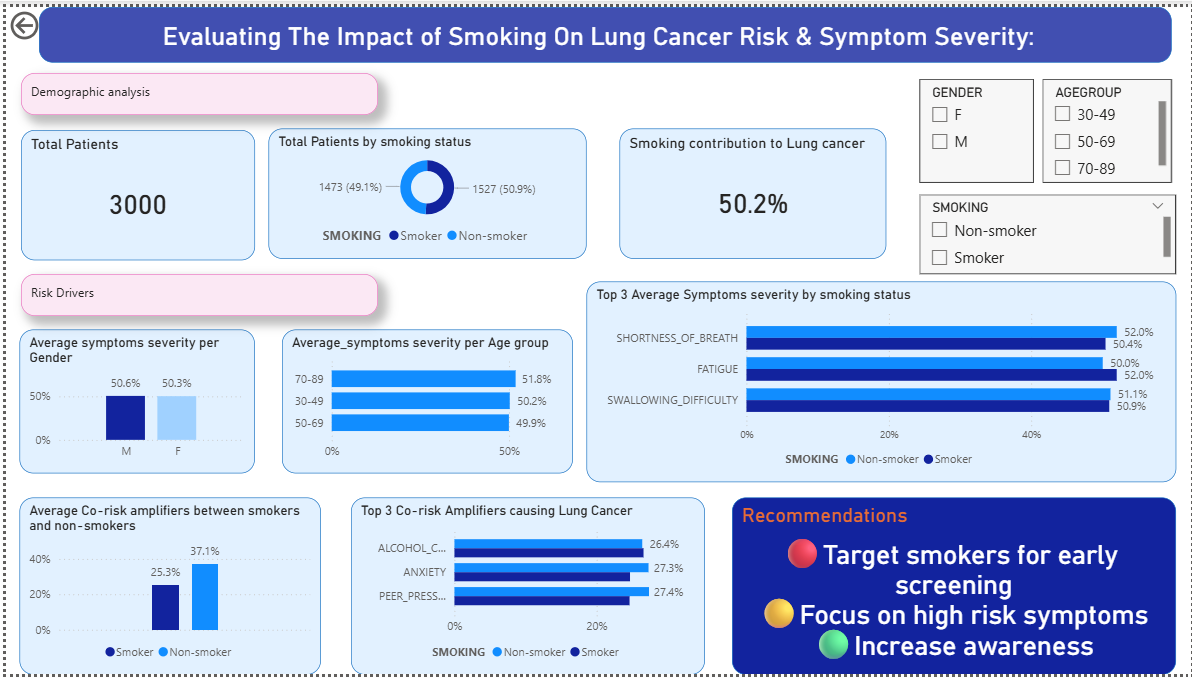

The page's visual inventory and layout, read from the dashboard file:
{"tool":"powerbi","page":{"name":"Deep dive analysis","canvas":[1280,720],"ordinal":1},"visuals":[{"type":"clusteredBarChart","title":"Top 3 Average Symptoms severity by smoking status","fields":{"Category":["DIM_SYMPTOMS.SYMPTOMS"],"Y":["MEASURES ANALYSIS.m_Average_symptoms severity"],"Series":["DIM_SMOKING.SMOKING"]},"box":[626.6,296.3,636.4,217],"z":0},{"type":"clusteredColumnChart","title":"Average Co-risk amplifiers between smokers and non-smokers","fields":{"Y":["MEASURES ANALYSIS.Average smoker_co-risk amp","MEASURES ANALYSIS.Avg. non-smoker_co-risk amp"]},"box":[14.6,529.5,325.5,191.1],"z":1000},{"type":"donutChart","title":"Total Patients by smoking status","fields":{"Category":["DIM_SMOKING.SMOKING"],"Y":["MEASURES ANALYSIS.m_Total Patients"]},"box":[283.4,131.2,343.3,140.9],"z":2000},{"type":"card","title":"Total Patients","fields":{"Values":["MEASURES ANALYSIS.Total Patients"]},"box":[16.2,132.8,252.6,140.9],"z":3000},{"type":"actionButton","box":[0,0,100,40],"z":4000},{"type":"clusteredBarChart","title":"Average_symptoms severity per Age group ","fields":{"Category":["DIM_AGEGROUP.AGEGROUP"],"Y":["MEASURES ANALYSIS.m_Average_symptoms severity"]},"box":[298.5,348.7,314.1,155.4],"z":5000},{"type":"clusteredColumnChart","title":"Average symptoms severity per Gender","fields":{"Y":["MEASURES ANALYSIS.m_Average_symptoms severity"],"Category":["DIM_GENDER.GENDER"]},"box":[14.6,348.1,254.2,155.4],"z":6000},{"type":"textbox","box":[16.2,71.2,385.4,45.3],"z":7000},{"type":"textbox","box":[16.2,288.2,385.4,45.3],"z":8000},{"type":"clusteredBarChart","title":"Top 3 Co-risk Amplifiers causing Lung Cancer","fields":{"Category":["DIM_CORISK_AMPLIFIERS.CO_RISK_AMPLIFIERS"],"Y":["MEASURES ANALYSIS.Co-risk_Lung cancer%"],"Series":["DIM_SMOKING.SMOKING"]},"box":[372.4,529.5,382.1,191.1],"z":9000},{"type":"card","title":"Smoking contribution to Lung cancer","fields":{"Values":["MEASURES ANALYSIS.m_Smoking contribution to lung cancer"]},"box":[662.3,131.2,288.2,140.9],"z":10000},{"type":"card","title":"Recommendations","fields":{"Values":["MEASURES ANALYSIS.Recommendations"]},"box":[783.7,529.5,479.3,191.1],"z":11000},{"type":"card","fields":{"Values":["MEASURES ANALYSIS.DT_Main Tilte"]},"box":[35.6,0,1222.5,59.9],"z":12000},{"type":"slicer","fields":{"Values":["DIM_GENDER.GENDER"]},"box":[986.1,77.7,123.1,111.7],"z":13000},{"type":"slicer","fields":{"Values":["DIM_AGEGROUP.AGEGROUP"]},"box":[1118.9,77.7,139.3,111.7],"z":14000},{"type":"slicer","fields":{"Values":["DIM_SMOKING.SMOKING"]},"box":[986.1,202.4,276.9,85.8],"z":15000}]}

Visuals, with their boxes in screenshot pixels (x1, y1, x2, y2), scaled from the page's 1280x720 canvas onto the 1192x678 screenshot:
"Top 3 Average Symptoms severity by smoking status" clusteredBarChart: BBox(584, 279, 1176, 483)
"Average Co-risk amplifiers between smokers and non-smokers" clusteredColumnChart: BBox(14, 499, 317, 677)
"Total Patients by smoking status" donutChart: BBox(264, 124, 584, 256)
"Total Patients" card: BBox(15, 125, 250, 258)
actionButton: BBox(0, 0, 93, 38)
"Average_symptoms severity per Age group " clusteredBarChart: BBox(278, 328, 570, 475)
"Average symptoms severity per Gender" clusteredColumnChart: BBox(14, 328, 250, 474)
textbox: BBox(15, 67, 374, 110)
textbox: BBox(15, 271, 374, 314)
"Top 3 Co-risk Amplifiers causing Lung Cancer" clusteredBarChart: BBox(347, 499, 703, 677)
"Smoking contribution to Lung cancer" card: BBox(617, 124, 885, 256)
"Recommendations" card: BBox(730, 499, 1176, 677)
card - MEASURES ANALYSIS.DT_Main Tilte: BBox(33, 0, 1172, 56)
slicer - DIM_GENDER.GENDER: BBox(918, 73, 1033, 178)
slicer - DIM_AGEGROUP.AGEGROUP: BBox(1042, 73, 1172, 178)
slicer - DIM_SMOKING.SMOKING: BBox(918, 191, 1176, 271)
